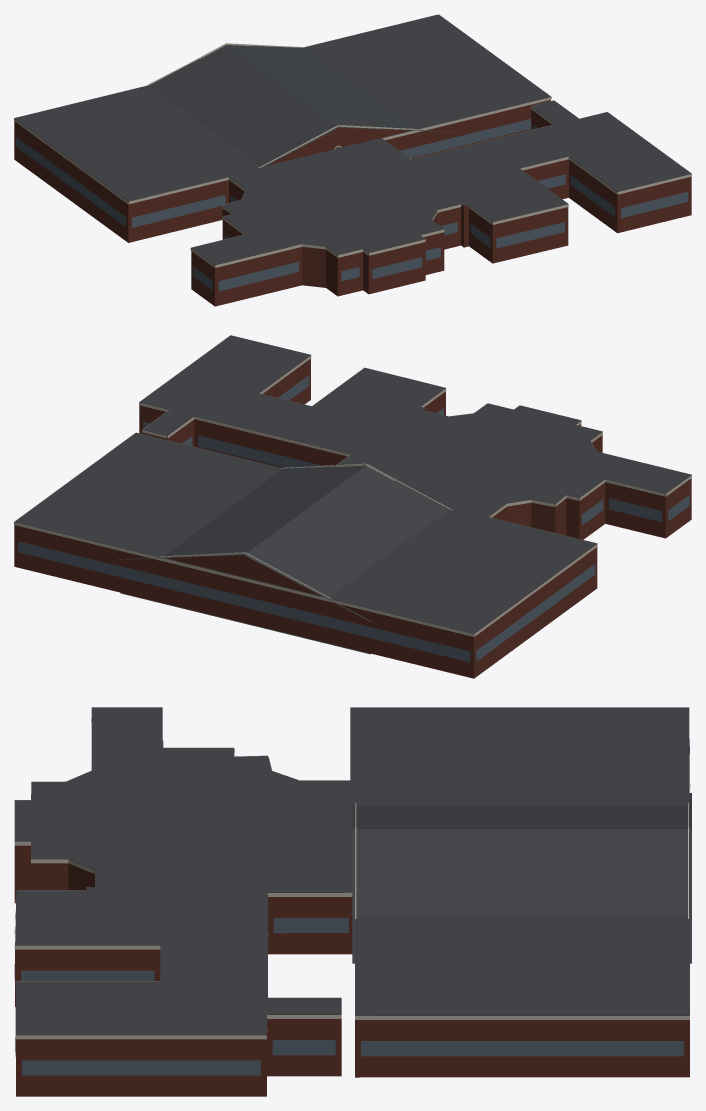
The model's file is second-baptist.glb.
3 renders of one model, top to bottom at view 1: azimuth 30°, elevation 25°; view 2: azimuth 150°, elevation 25°; view 3: azimuth 270°, elevation 25°, orthographic. The views are drawn at different scales.
Visible parts, largest first — view 1: second_baptist; view 2: second_baptist; view 3: second_baptist.
Boxes of the visible parts, <box> form: second_baptist: <box>14,14,691,306</box>; second_baptist: <box>14,335,691,678</box>; second_baptist: <box>14,707,691,1096</box>.
Size of the model in its own units: 78.41 by 11.03 by 68.46.
